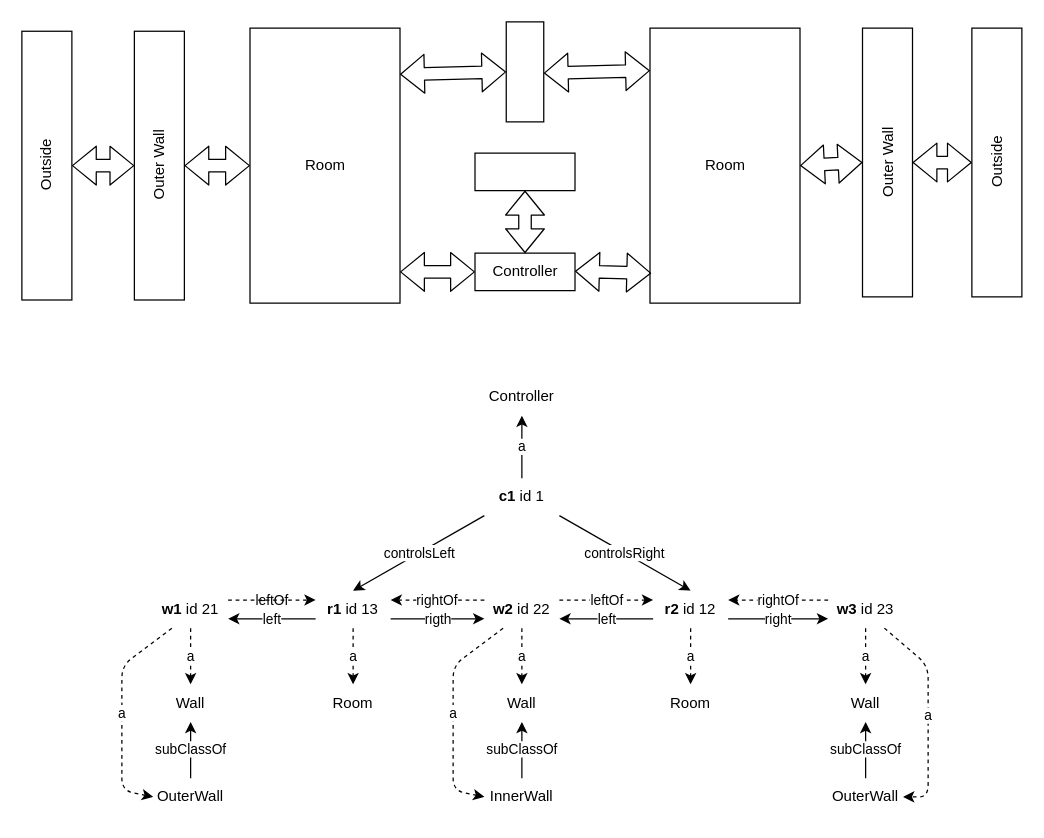
This 1044x838 diagram has some shape labels left out. Here are the shapes that lost their labels. From the top down, the centre of each, then its label:
At point (524, 71): "Inner Wall".
At point (524, 171): "Clock".
